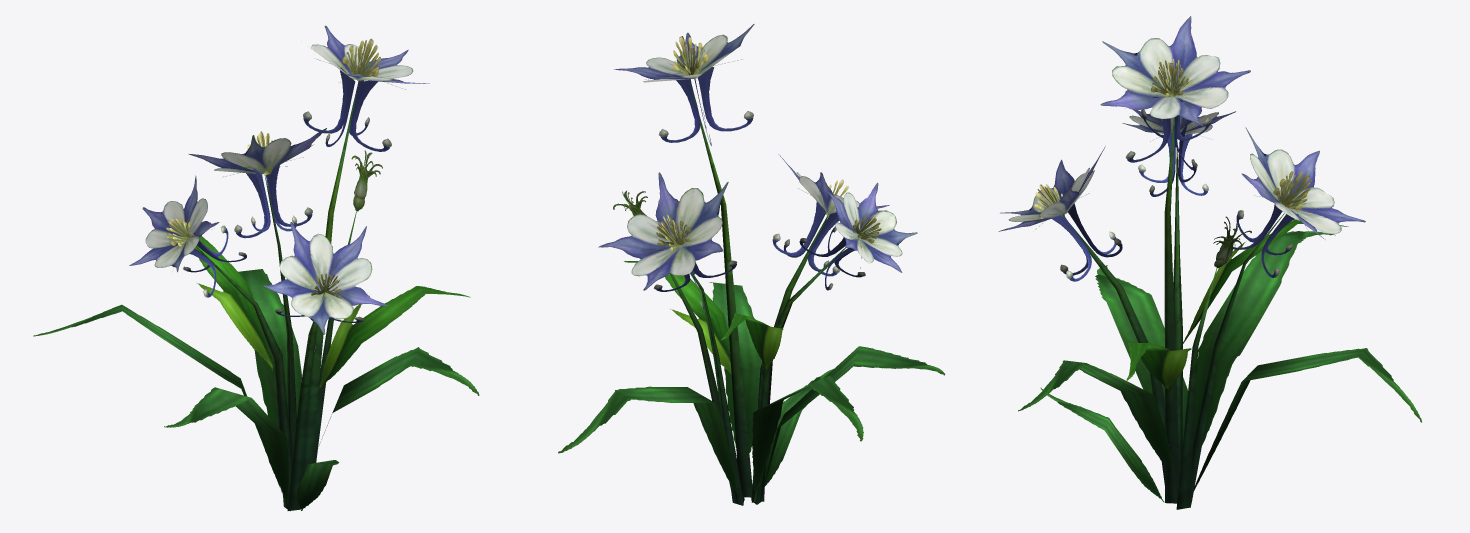
The model's file is wm_灌木洛阳城花草06.fbx.
3 views of the same model, side by side, from view 1: azimuth 30°, elevation 25°; view 2: azimuth 150°, elevation 25°; view 3: azimuth 270°, elevation 25° (orthographic). The views are drawn at different scales.
Visible parts, largest first — view 1: wm_灌木洛阳城花草06; view 2: wm_灌木洛阳城花草06; view 3: wm_灌木洛阳城花草06.
Part boxes in pixels (x1,y1,x2,y2): wm_灌木洛阳城花草06: (33, 25, 479, 511); wm_灌木洛阳城花草06: (558, 24, 945, 505); wm_灌木洛阳城花草06: (998, 16, 1421, 509).
Size of the model in its own units: 99 by 117 by 99.28.
